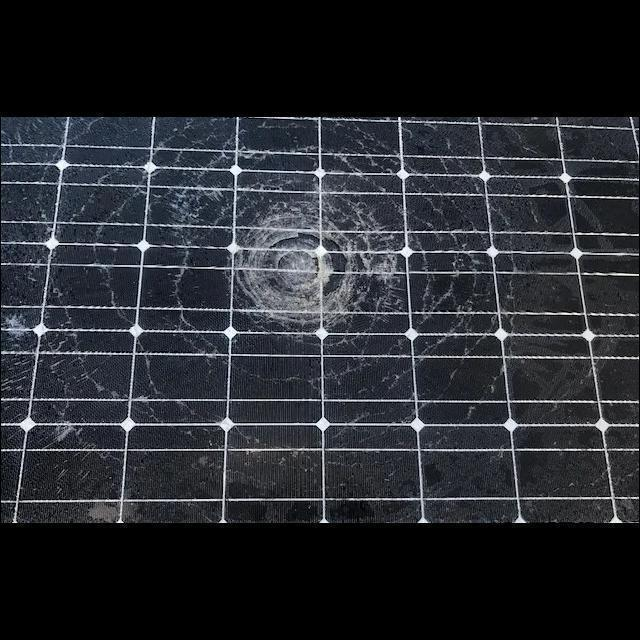Anomaly Solar Panel: (1, 117, 639, 525)
Structural Damage: (1, 117, 552, 470)
